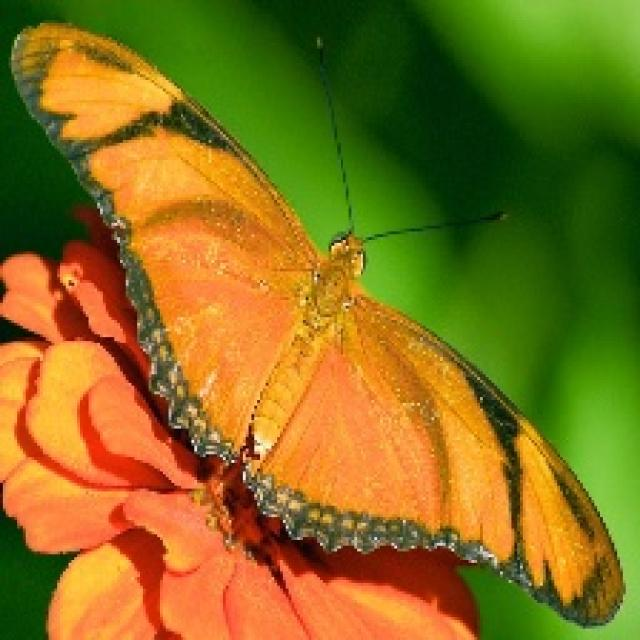butterfly: (6, 17, 626, 629)
